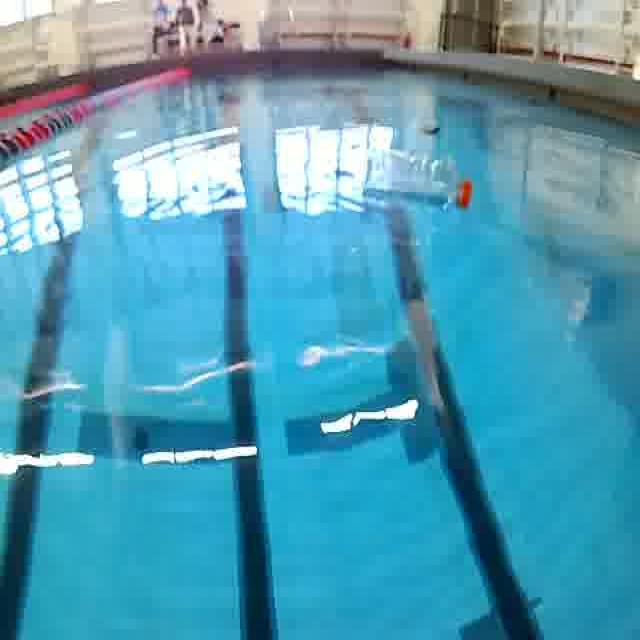Bottle: (355, 139, 481, 222)
